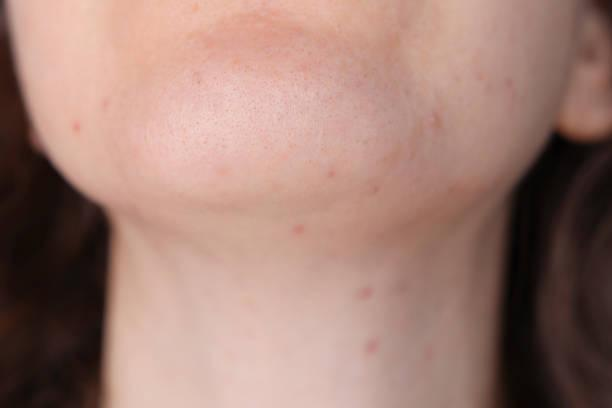Dry-Skin: (303, 50, 436, 219), (102, 20, 249, 160), (464, 12, 520, 152), (192, 51, 282, 127)
